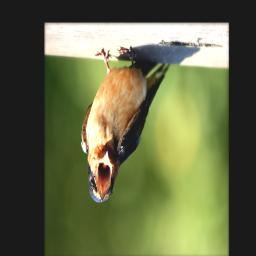Swallow: (80, 46, 171, 204)
